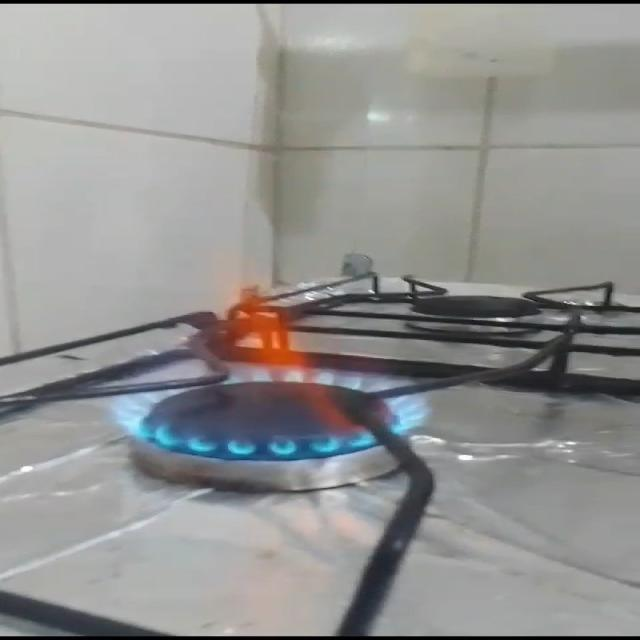fogo-ypXI: (98, 267, 438, 463)
